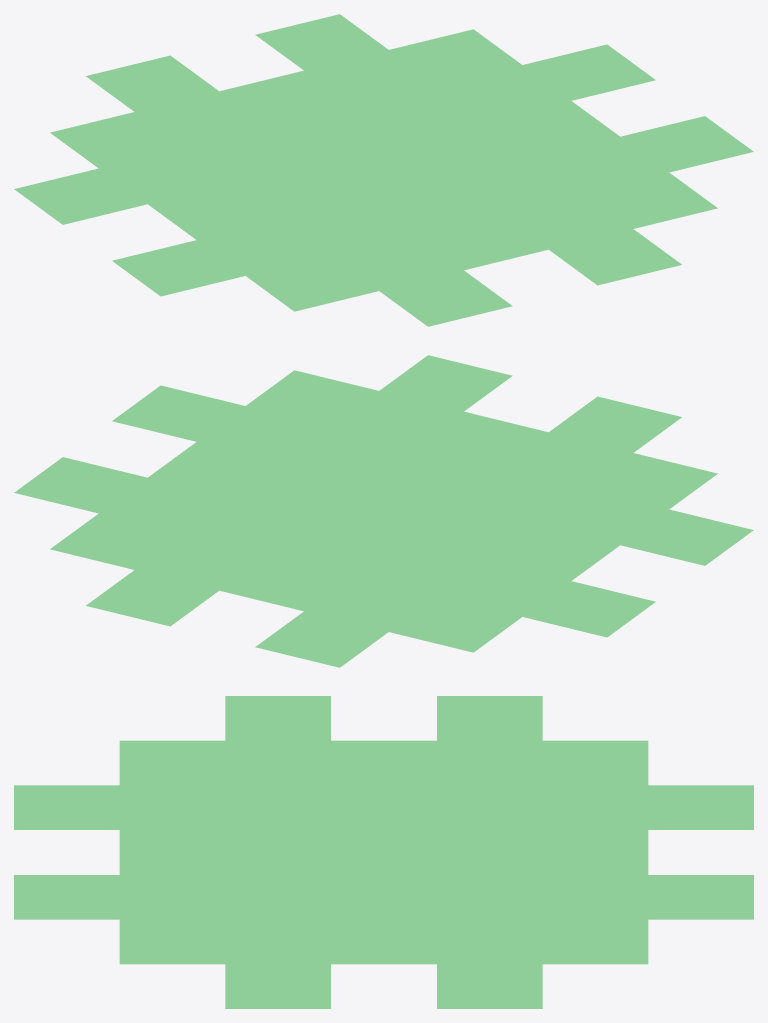
Rendered from piattaforma.glb.
3 renders of one model, top to bottom at view 1: azimuth 30°, elevation 25°; view 2: azimuth 150°, elevation 25°; view 3: azimuth 270°, elevation 25°, orthographic. The views are drawn at different scales.
Parts seen in each view (by area): view 1: Plane; view 2: Plane; view 3: Plane.
Boxes of the visible parts, bbox=[...] form: Plane: bbox=[14, 14, 753, 326]; Plane: bbox=[14, 355, 753, 667]; Plane: bbox=[14, 696, 753, 1008].
Bounding box in the file's own units: 28 × 0 × 28.
